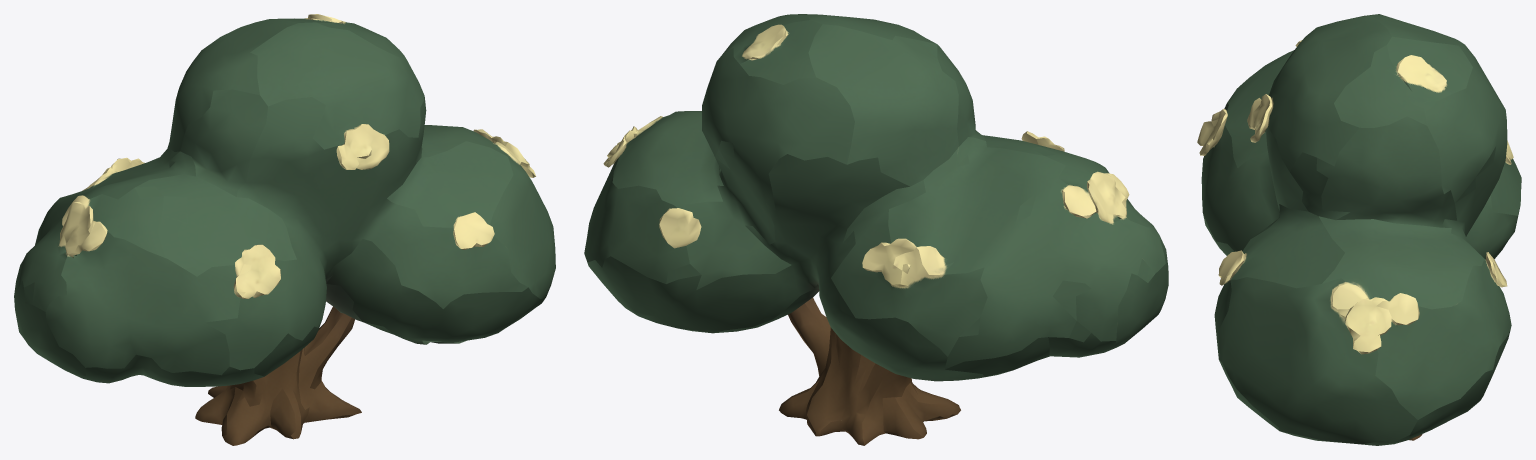
The model's file is ENV_09_HAWTHORN.glb.
3 views of the same model, side by side, from view 1: azimuth 30°, elevation 25°; view 2: azimuth 150°, elevation 25°; view 3: azimuth 270°, elevation 25° (orthographic). The views are drawn at different scales.
Visible parts, largest first — view 1: world; view 2: world; view 3: world.
Boxes of the visible parts, x1=… form: world: x1=14, y1=14, x2=555, y2=445; world: x1=584, y1=14, x2=1168, y2=445; world: x1=1197, y1=14, x2=1521, y2=445.
Bounding box in the file's own units: 1 × 0.6931 × 0.5233.
Materials: 1 (1 with a texture image).
